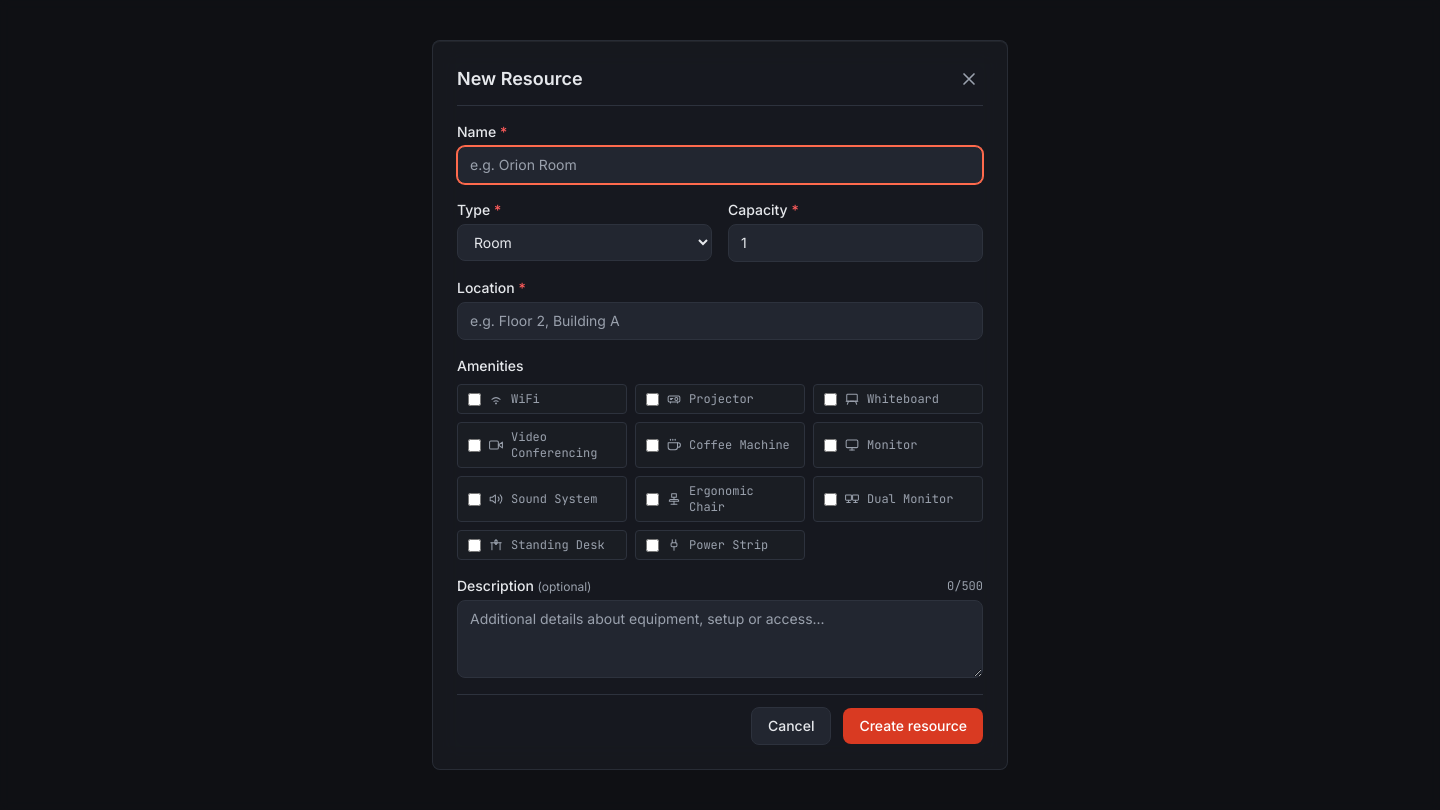
ResourceForm component › forces capacity to 1 when desk is selected
// Initial state: room with capacity 1
Replace the text in the number field labelled "Capacity *" with "8" at coordinates (856, 243), box [728, 224, 983, 262]
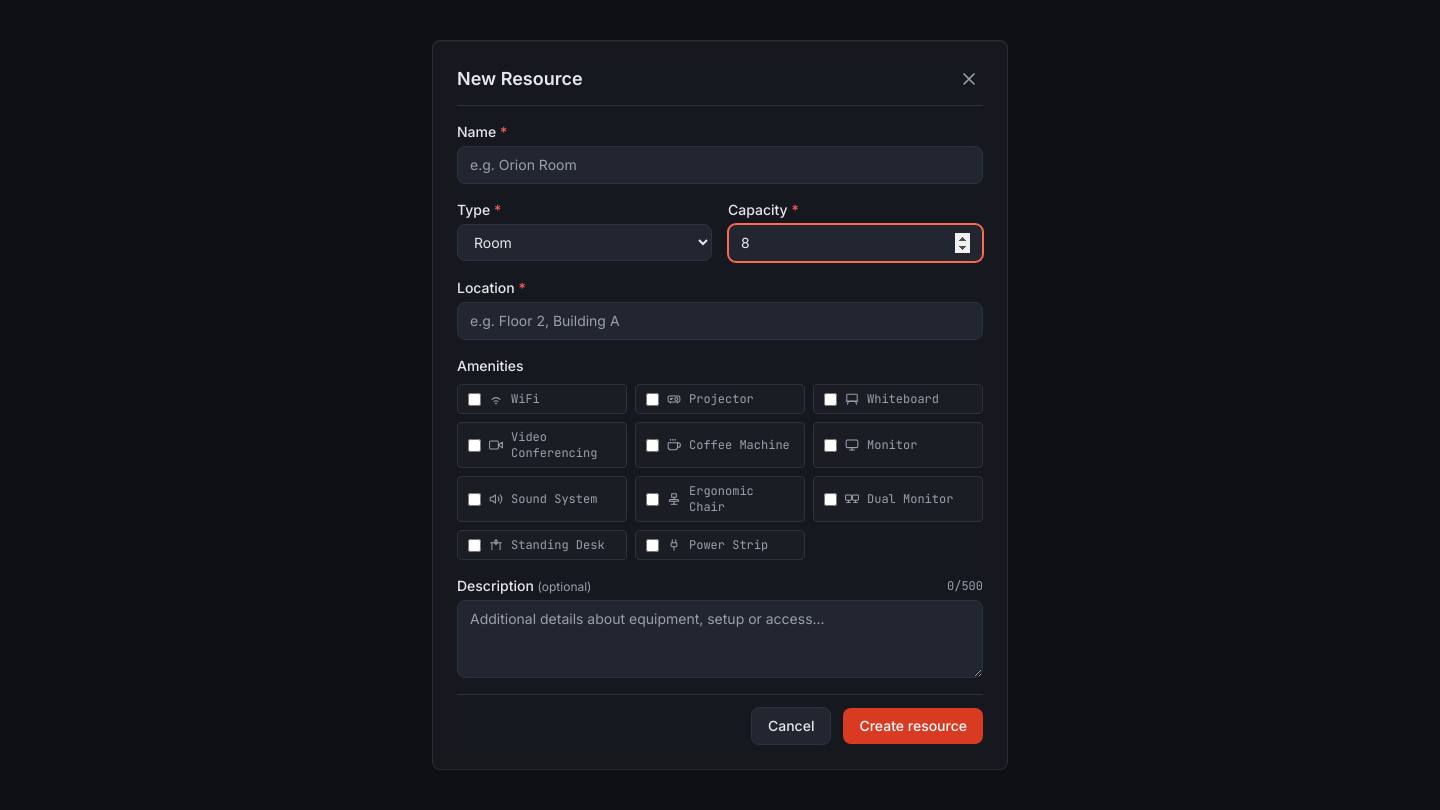
// Switching to desk forces capacity to 1 and disables input
Select "Desk" in the dropdown labelled "Type *" at coordinates (584, 242), box [457, 224, 712, 261]
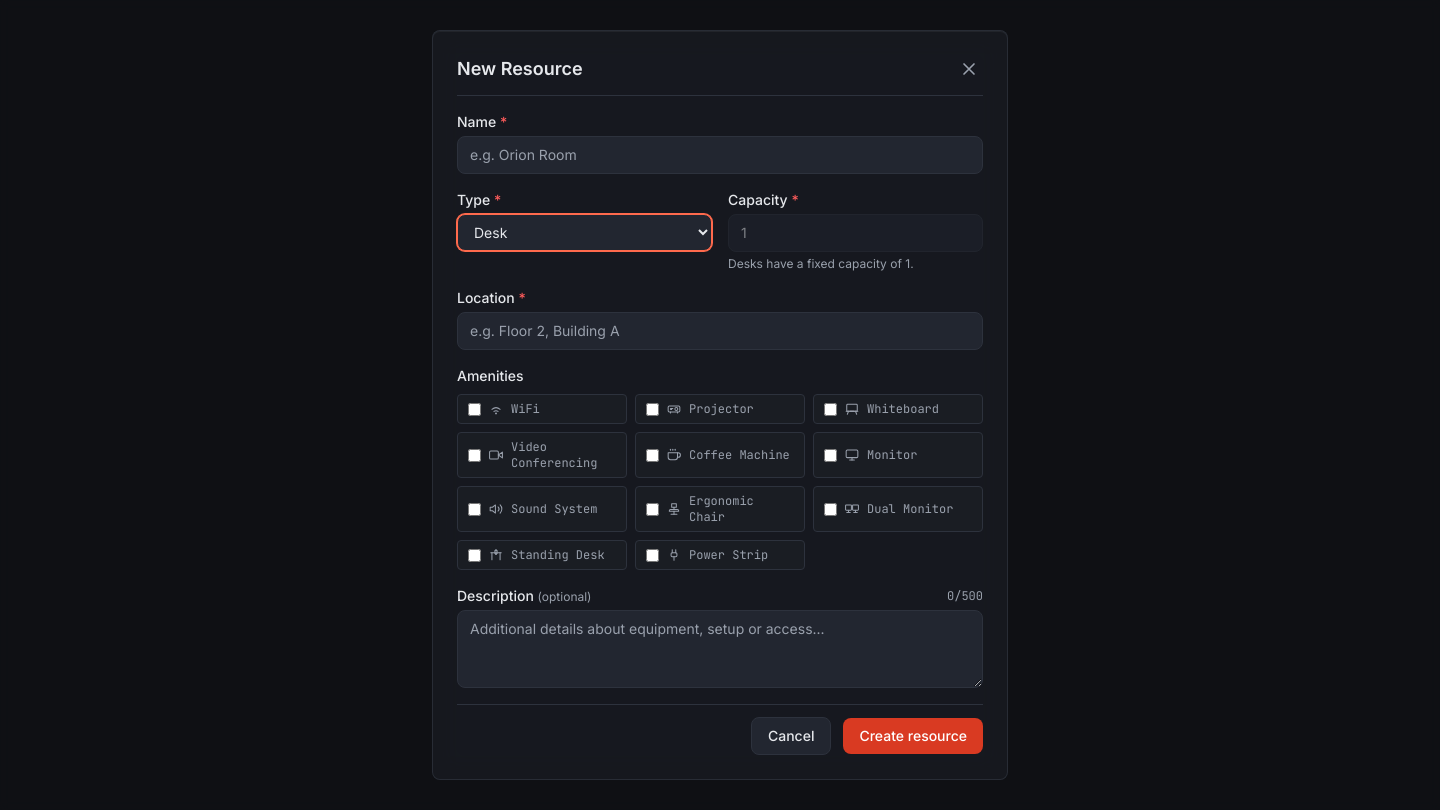
Expected: the number field labelled "Capacity *" holds "1", [728, 214, 983, 252]
Expected: the number field labelled "Capacity *" is disabled, [728, 214, 983, 252]
Expected: the text "Desks have a fixed capacity of 1." is shown, [728, 256, 914, 271]
